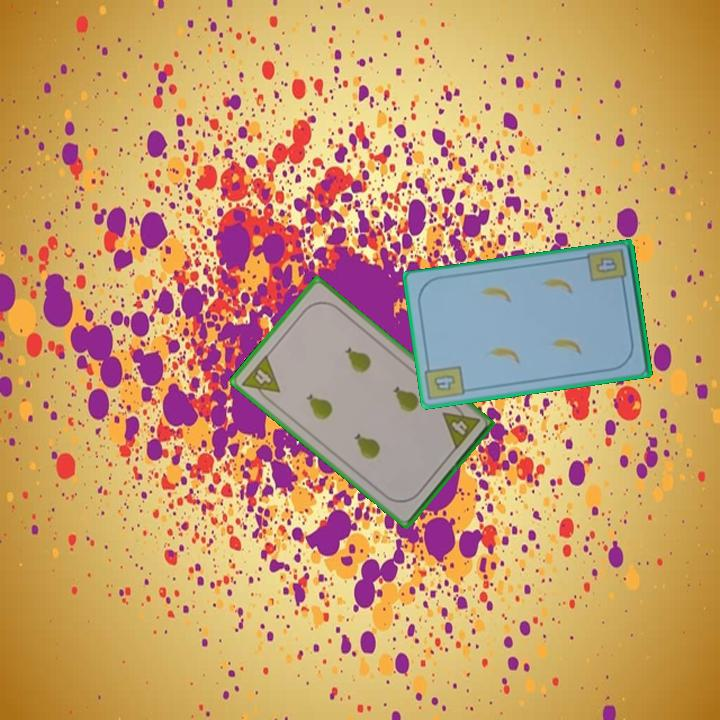4b: (422, 360, 468, 403), (592, 254, 620, 276)
4p: (238, 351, 283, 406), (439, 400, 483, 453)
